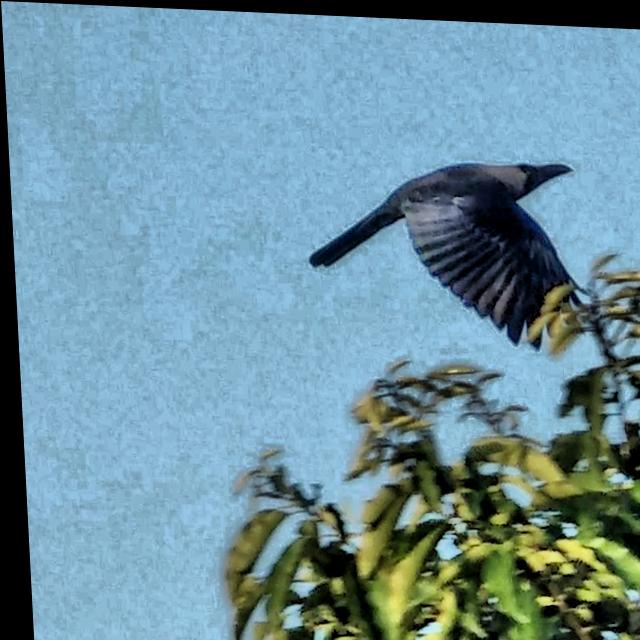crow: (272, 108, 617, 353)
